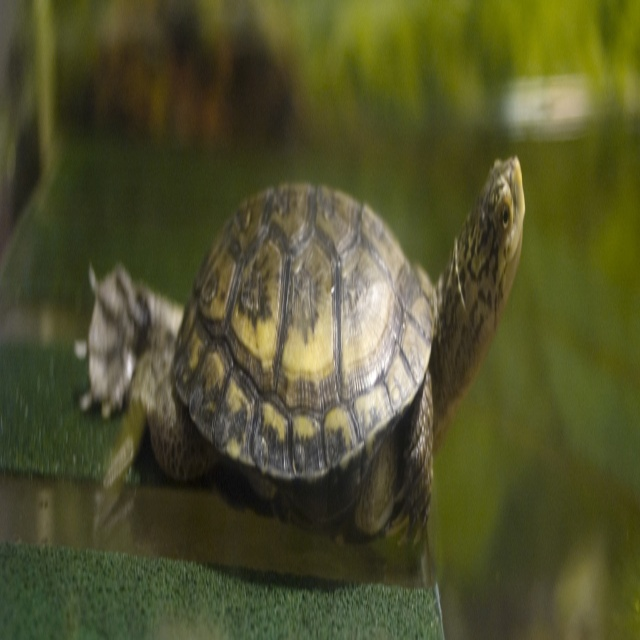Sea turtle: (75, 144, 526, 536)
